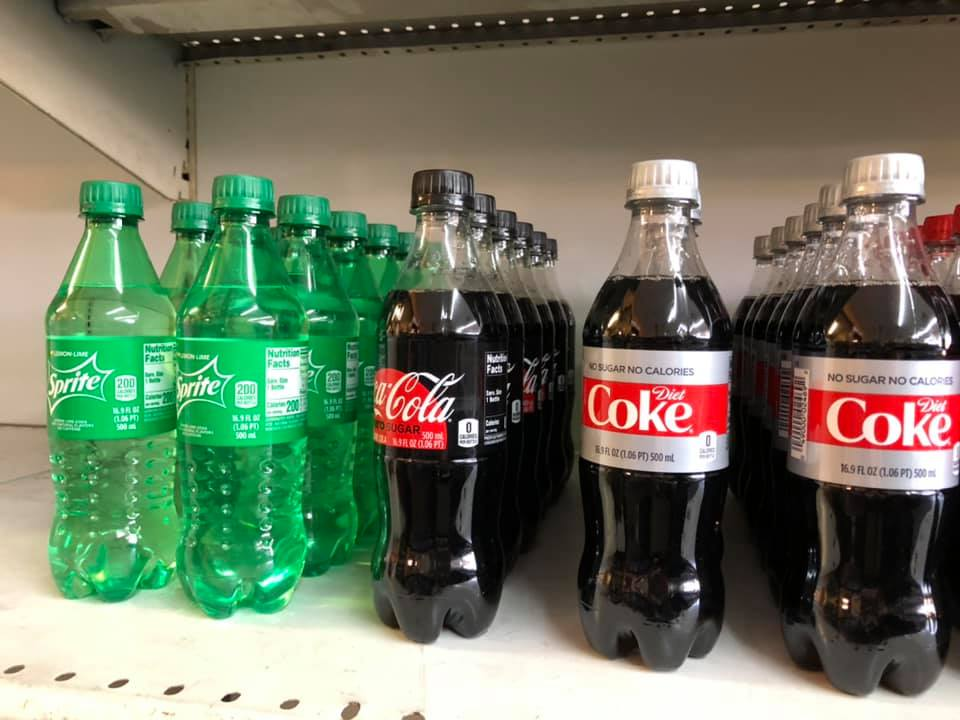dietcoke: (825, 391, 954, 453), (586, 377, 694, 439)
sprite: (48, 367, 102, 398), (176, 372, 223, 403)
